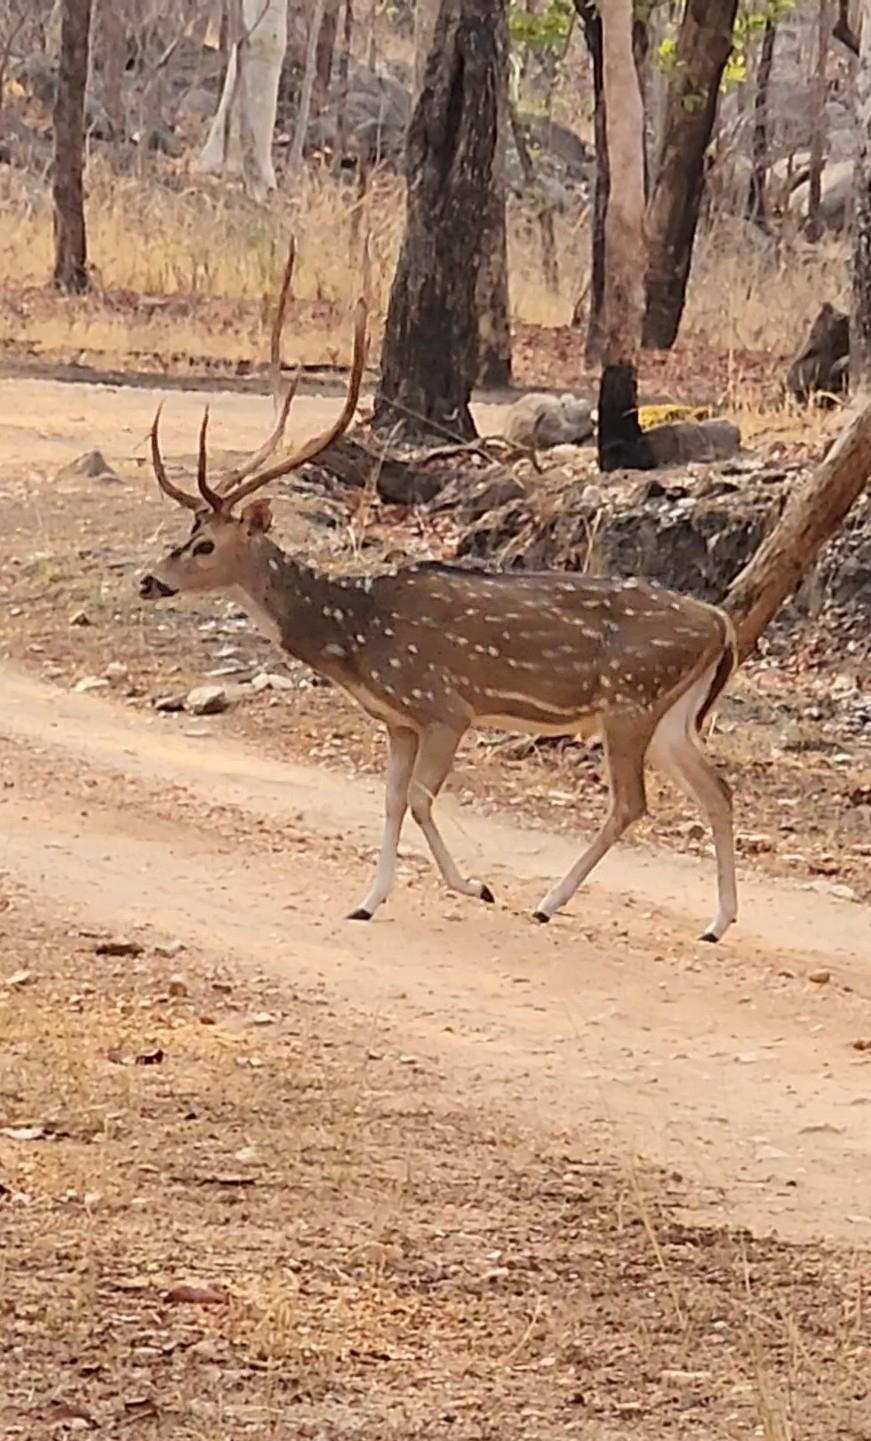Deer: (141, 300, 739, 942)
